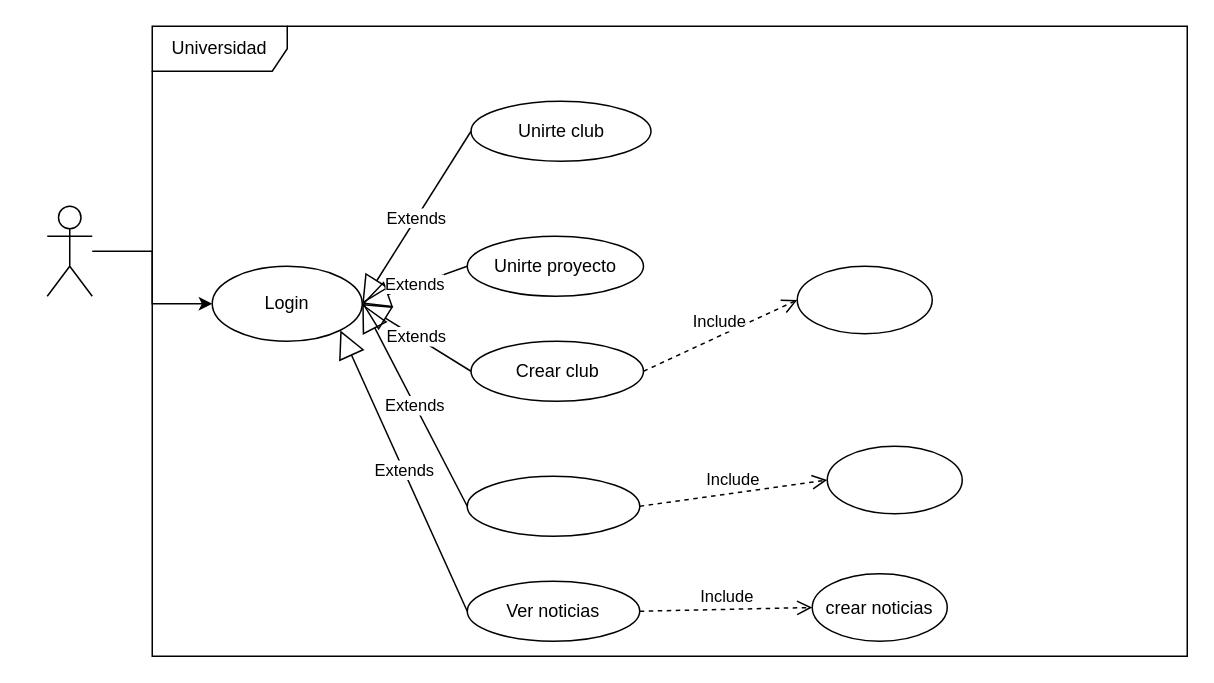
This 1214x683 diagram has some shape labels left out. Each missing label, with the centre of its shape:
"Administrar club" goes at pixel 864 299.
"Administrar proyecto" goes at pixel 894 479.
"Crear Proyecto" goes at pixel 553 505.
"Registrado" goes at pixel 69 250.
